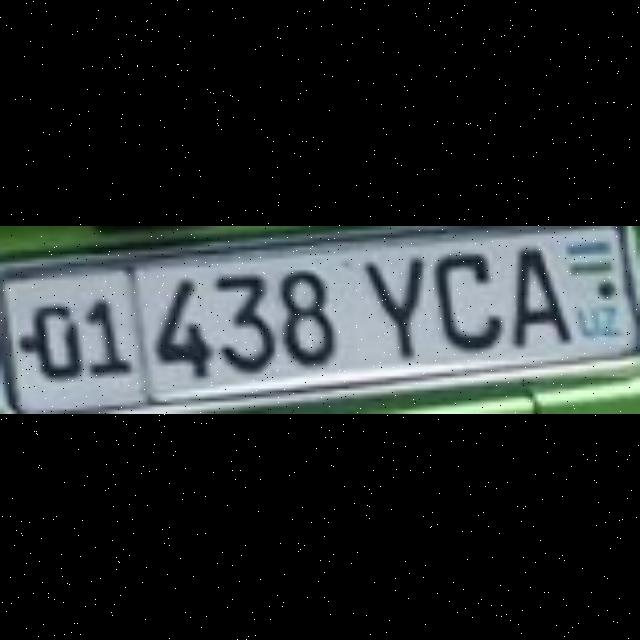0: (28, 300, 74, 374)
1: (78, 296, 124, 374)
3: (209, 271, 271, 369)
4: (152, 275, 204, 373)
8: (276, 267, 328, 361)
A: (508, 243, 566, 341)
C: (427, 251, 497, 345)
Y: (362, 255, 418, 358)
